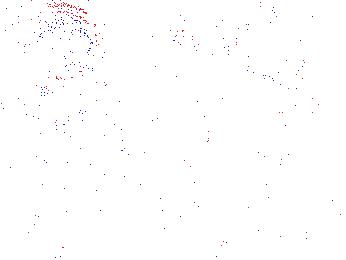moon jellyfish: (1, 1, 92, 127), (20, 5, 102, 82), (240, 12, 328, 75), (169, 1, 273, 46)
